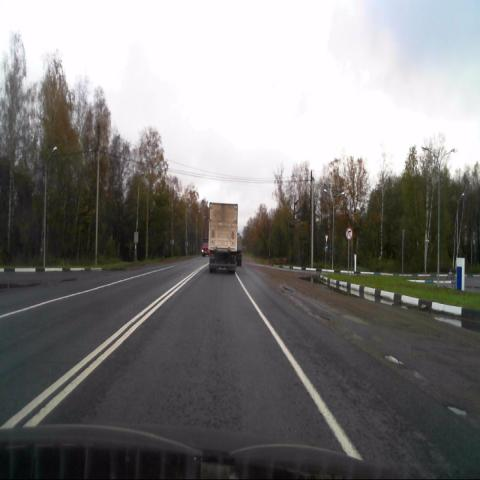3_18: (346, 227, 352, 240)
